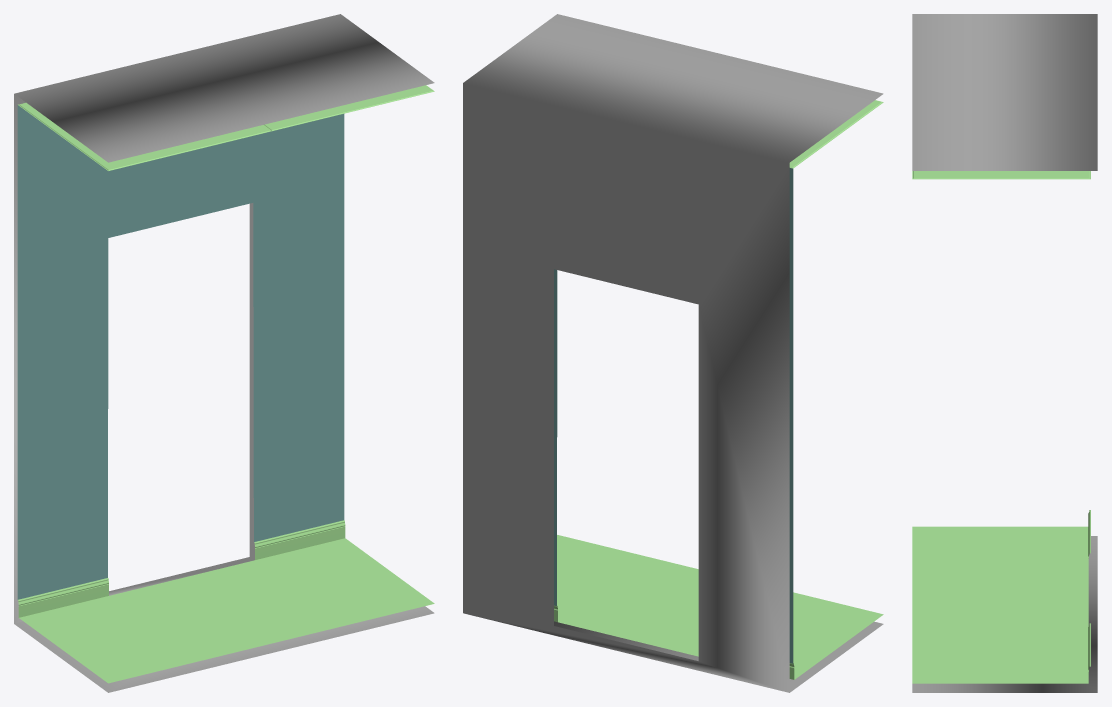
The model's file is Room_1x1_door_frame_geo.fbx.
The picture shows the model from 3 angles, left to right: view 1: azimuth 30°, elevation 25°; view 2: azimuth 150°, elevation 25°; view 3: azimuth 270°, elevation 25°; orthographic projection.
Parts seen in each view (by area): view 1: Room_1x1_door_frame_geo; view 2: Room_1x1_door_frame_geo; view 3: Room_1x1_door_frame_geo.
Part boxes in pixels (left/top/right/bottom): Room_1x1_door_frame_geo: left=14, top=14, right=434, bottom=692; Room_1x1_door_frame_geo: left=463, top=14, right=883, bottom=692; Room_1x1_door_frame_geo: left=912, top=14, right=1097, bottom=692.
Size of the model in its own units: 2 by 3.1 by 1.
